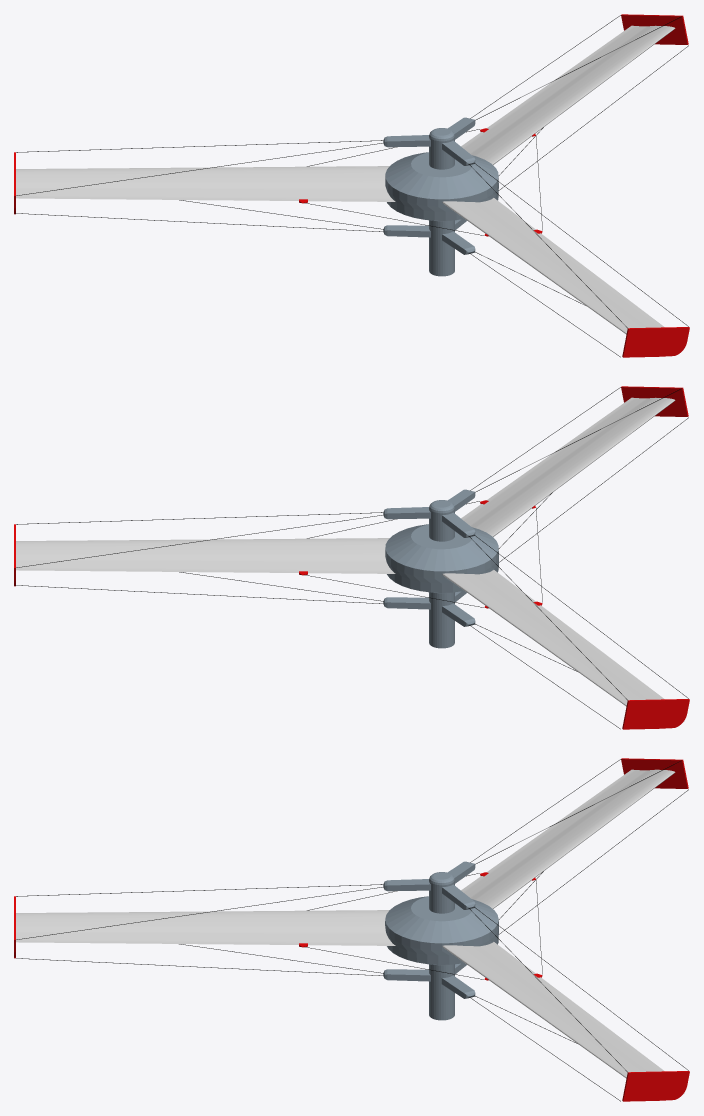
The picture shows the model from 3 angles, top to bottom: view 1: azimuth 30°, elevation 25°; view 2: azimuth 150°, elevation 25°; view 3: azimuth 270°, elevation 25°; orthographic projection.
Parts seen in each view (by area): view 1: Plane.004, Cylinder.001, Plane.002, Plane, Plane.001, Cube.001, Plane.003, Cube.013, Cube.002, Cube.012, Cube; view 2: Plane.002, Cylinder.001, Plane, Plane.004, Plane.005, Cube, Plane.001, Cube.014, Cube.001, Cube.013, Cube.002; view 3: Plane, Cylinder.001, Plane.004, Plane.002, Plane.003, Cube.002, Plane.005, Cube.012, Cube, Cube.014, Cube.001.
Boxes of the visible parts, x1,y1,x2,y2 form: Plane.004: [16, 166, 395, 201]; Cylinder.001: [385, 128, 498, 276]; Plane.002: [461, 25, 675, 164]; Plane: [442, 198, 664, 334]; Plane.001: [622, 327, 689, 357]; Cube.001: [16, 135, 430, 195]; Plane.003: [621, 14, 688, 44]; Cube.013: [14, 200, 430, 237]; Cube.002: [442, 140, 688, 328]; Cube.012: [442, 231, 620, 357]; Cube: [447, 15, 681, 139]; Plane.002: [16, 538, 395, 573]; Cylinder.001: [385, 500, 498, 648]; Plane: [461, 397, 675, 536]; Plane.004: [442, 570, 664, 706]; Plane.005: [622, 699, 689, 729]; Cube: [16, 507, 430, 567]; Plane.001: [621, 386, 688, 416]; Cube.014: [14, 572, 430, 609]; Cube.001: [442, 512, 688, 700]; Cube.013: [442, 603, 620, 729]; Cube.002: [447, 387, 681, 511]; Plane: [16, 910, 395, 945]; Cylinder.001: [385, 872, 498, 1020]; Plane.004: [461, 769, 675, 908]; Plane.002: [442, 942, 664, 1078]; Plane.003: [622, 1071, 689, 1101]; Cube.002: [16, 879, 430, 939]; Plane.005: [621, 758, 688, 788]; Cube.012: [16, 944, 430, 981]; Cube: [442, 884, 688, 1072]; Cube.014: [441, 975, 620, 1101]; Cube.001: [447, 759, 681, 883].
Bounding box in the file's own units: 56.08 × 11.03 × 48.61.
